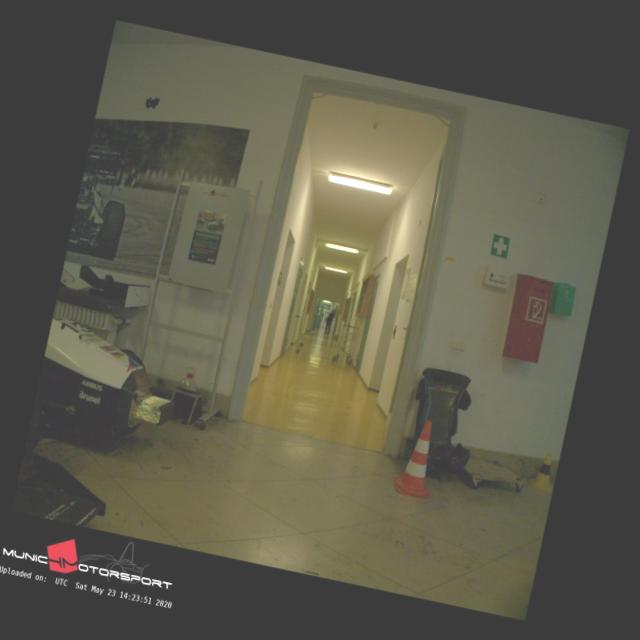large_orange_cone: (391, 416, 444, 500)
